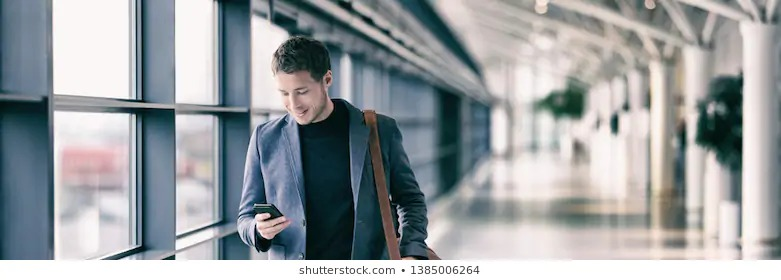F_M_suit jacket: (234, 96, 432, 257)
